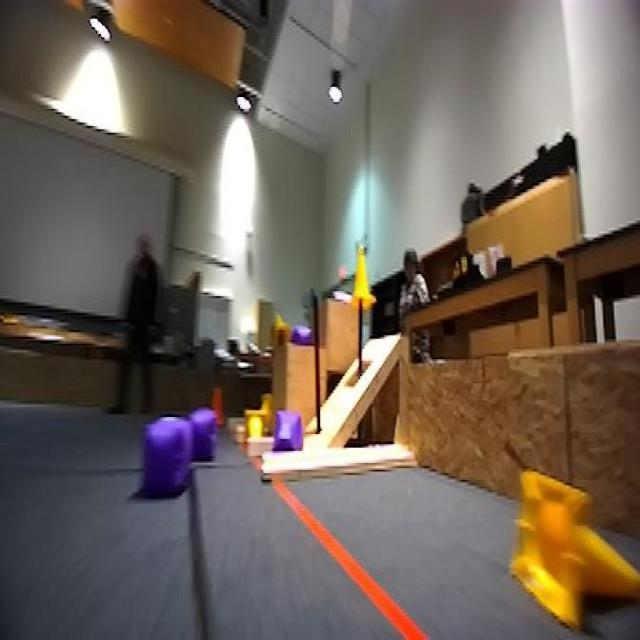frc_cone: (526, 439, 640, 638), (348, 247, 372, 304), (244, 410, 270, 441)
frc_cube: (138, 419, 193, 490), (187, 407, 220, 466), (270, 408, 301, 449), (283, 317, 318, 347)
